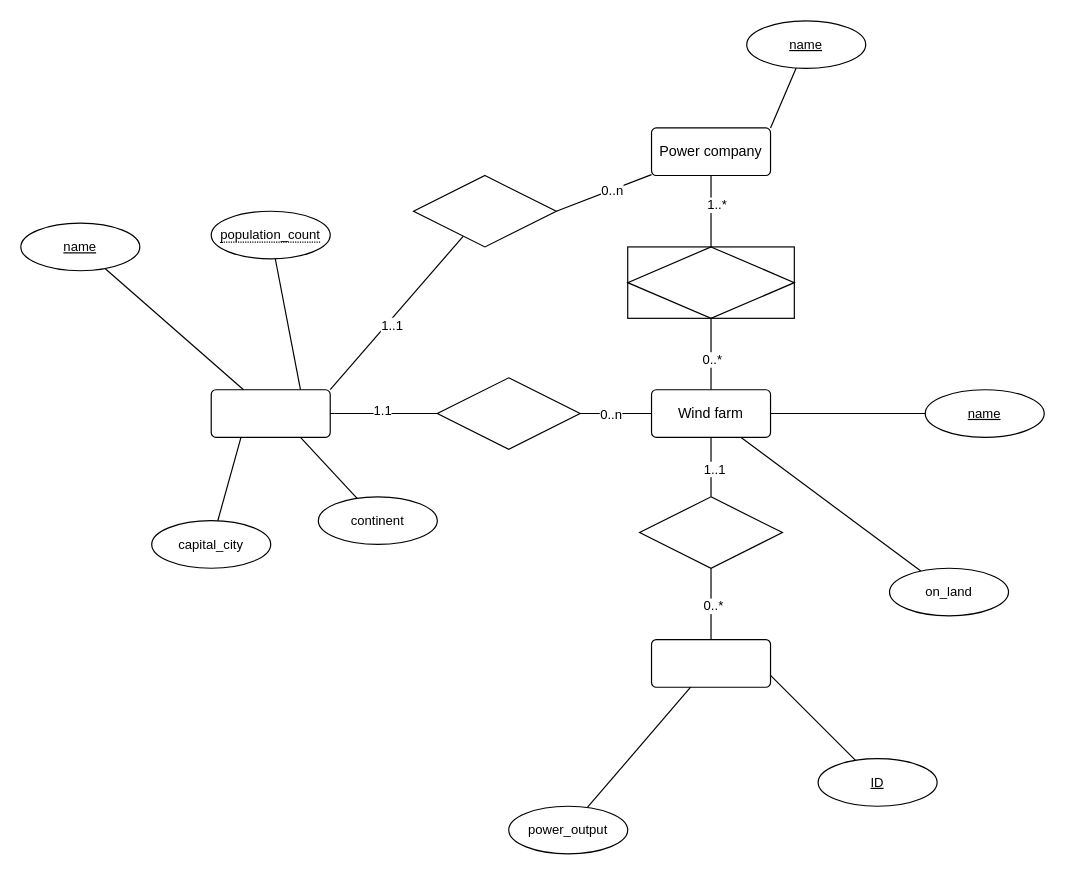
Image size: 1065x875. Some labels were removed from this diagram. Each missing label, with the centre of its shape:
Country: (x=270, y=413)
has: (x=710, y=532)
headquarter in: (x=484, y=210)
is in: (x=508, y=413)
Operation: (x=710, y=282)
Wind turbine: (x=710, y=662)
